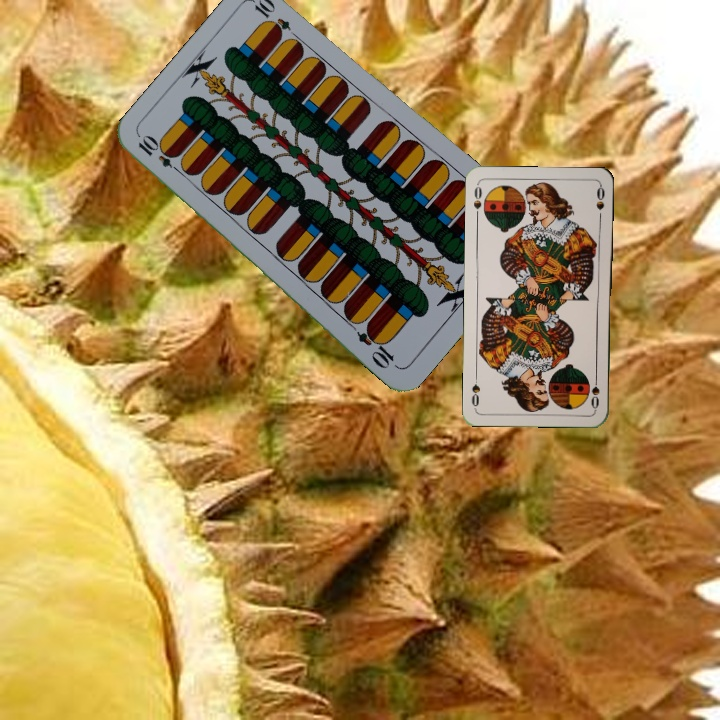E10: (134, 132, 186, 177)
SO: (587, 371, 602, 411), (470, 181, 485, 221)
